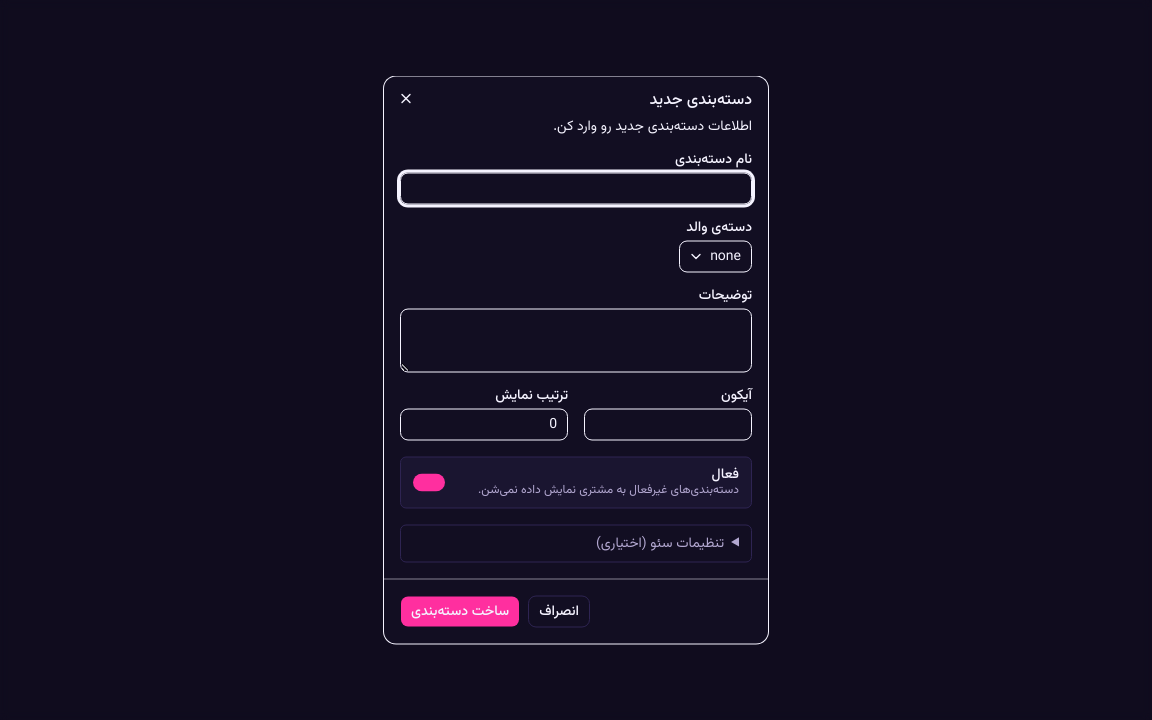
Test: CategoryFormDialog › create mode › shows generic error banner on non-422 API failure
Type "برق" into the field labelled "نام دسته‌بندی" at (576, 188), box [400,172,752,204]
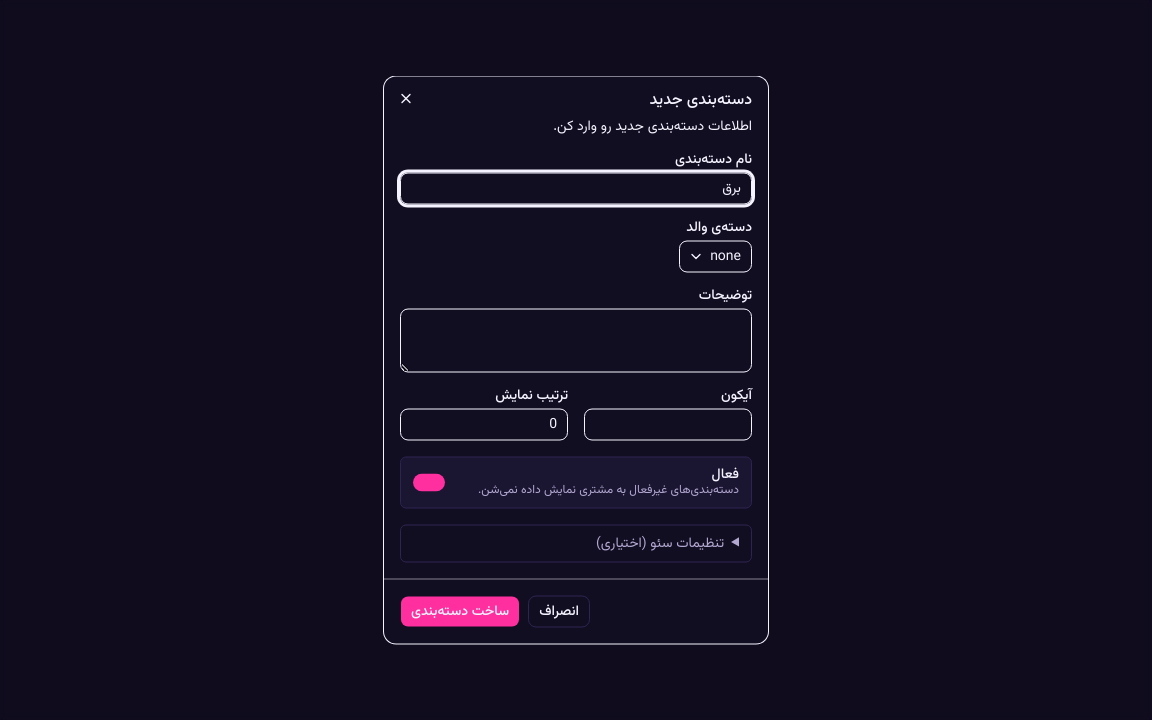
Click the button "ساخت دسته‌بندی" at (460, 612), box [400,596,520,628]
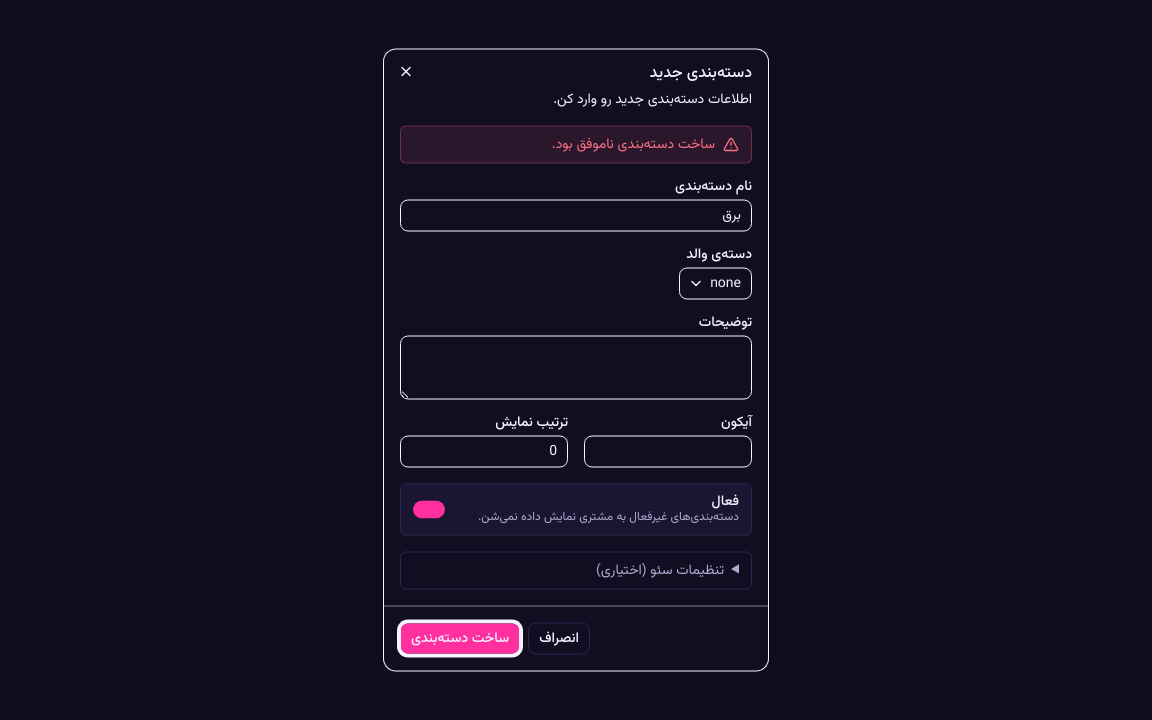
Expected: the text "ساخت دسته‌بندی ناموفق بود." is shown, [552,134,715,154]
